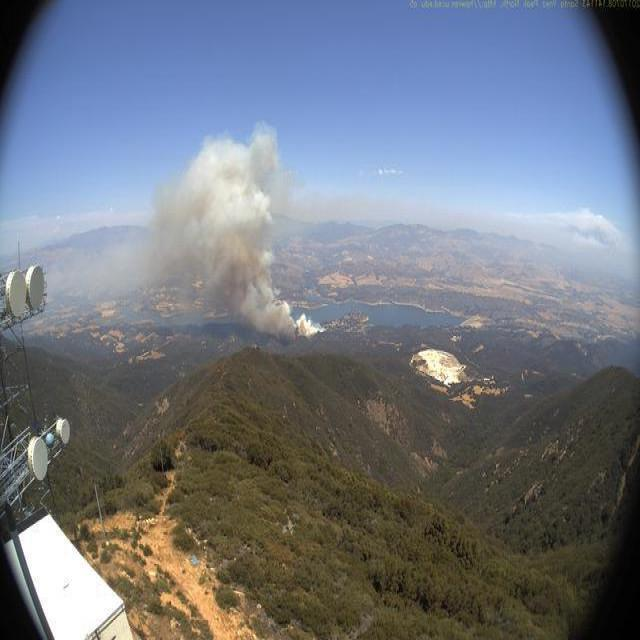Smoke: (141, 116, 328, 348)
